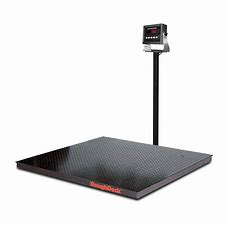Industrial Scale: (15, 23, 214, 200)
